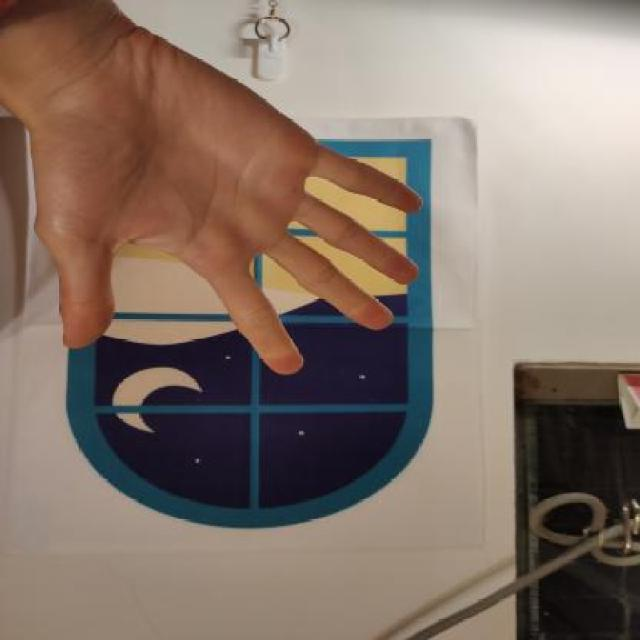bare_hand: (4, 29, 442, 386)
